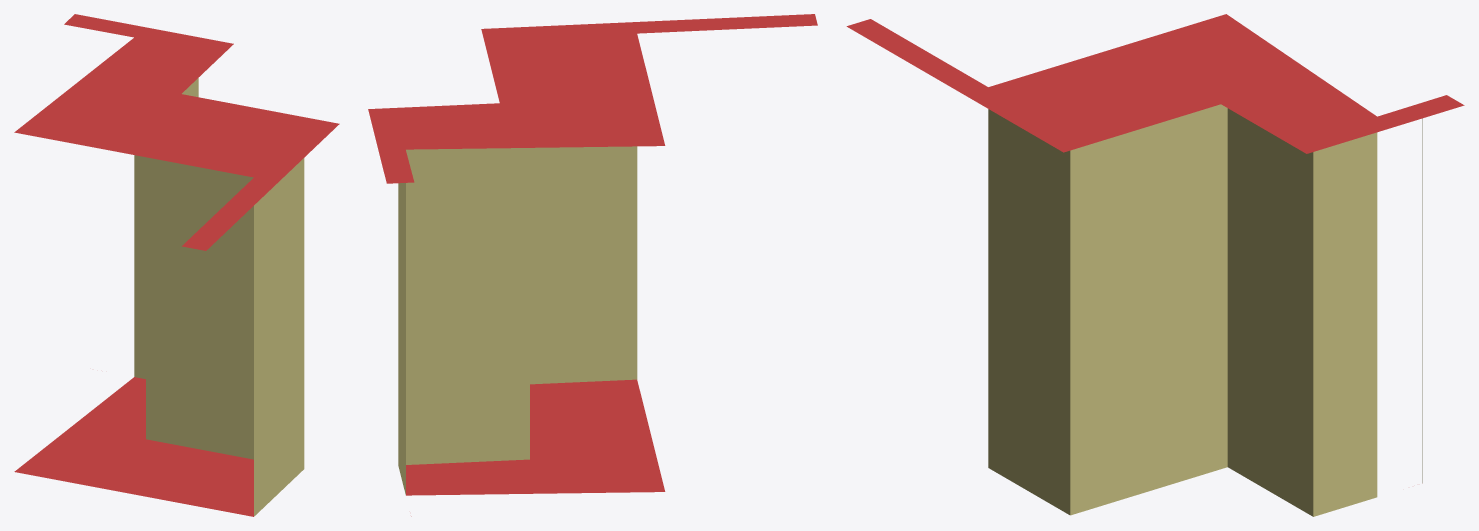
The picture shows the model from 3 angles, left to right: view 1: azimuth 30°, elevation 25°; view 2: azimuth 150°, elevation 25°; view 3: azimuth 270°, elevation 25°; orthographic projection. The views are drawn at different scales.
Bounding box in the file's own units: 5.48 × 10.23 × 6.95.
